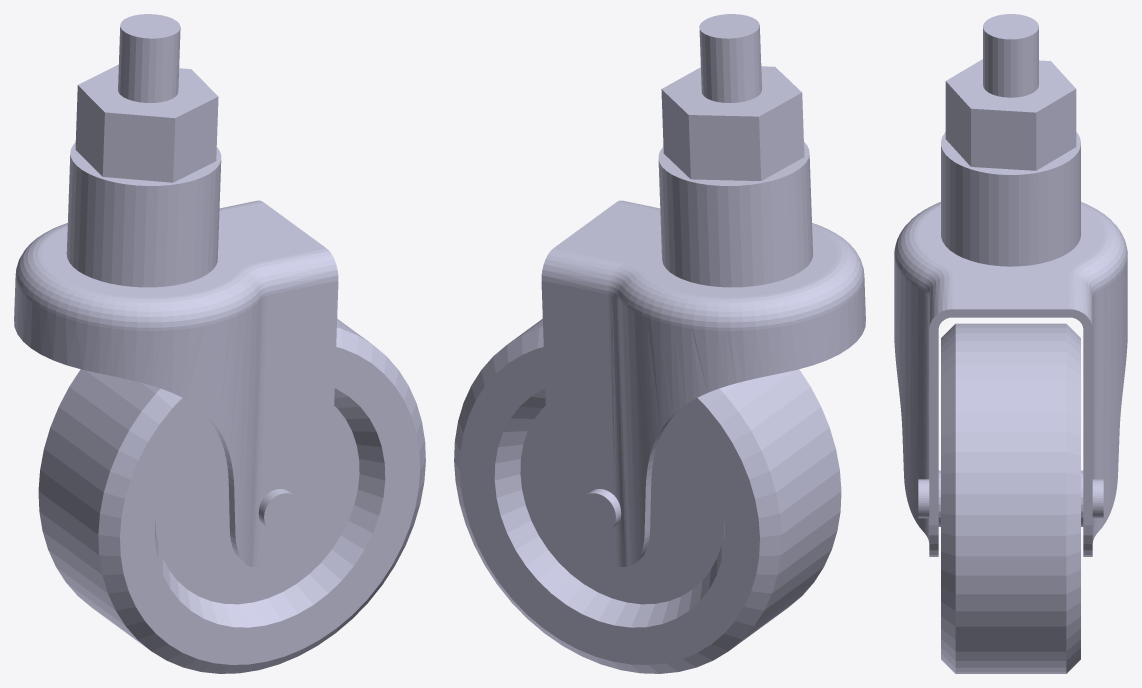
File: krytn_tray_ex_caster_wheel.dae.dae
The picture shows the model from 3 angles, left to right: view 1: azimuth 30°, elevation 25°; view 2: azimuth 150°, elevation 25°; view 3: azimuth 270°, elevation 25°; orthographic projection. The views are drawn at different scales.
Visible parts, largest first — view 1: node0; view 2: node0; view 3: node0.
Part boxes in pixels (bbox=[...]): node0: bbox=[14, 14, 425, 673]; node0: bbox=[454, 14, 865, 673]; node0: bbox=[894, 14, 1127, 673].
Bounding box in the file's own units: 0.0836 × 0.05 × 0.1405.
